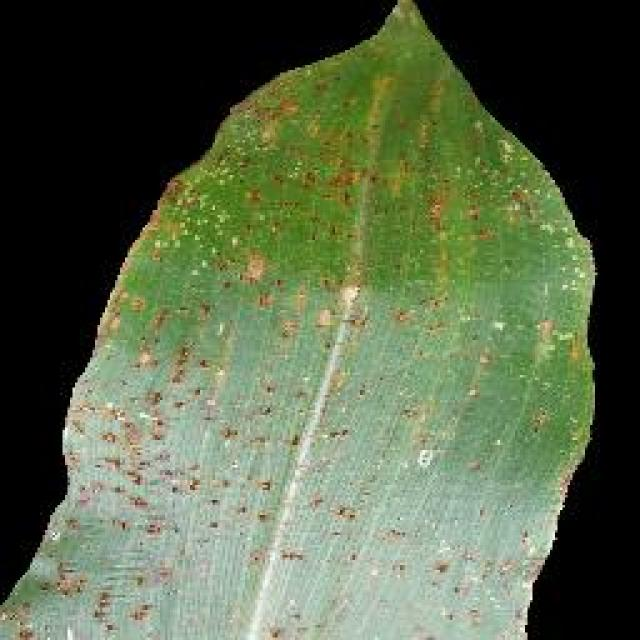Corn Common Rust: (140, 202, 547, 603)
